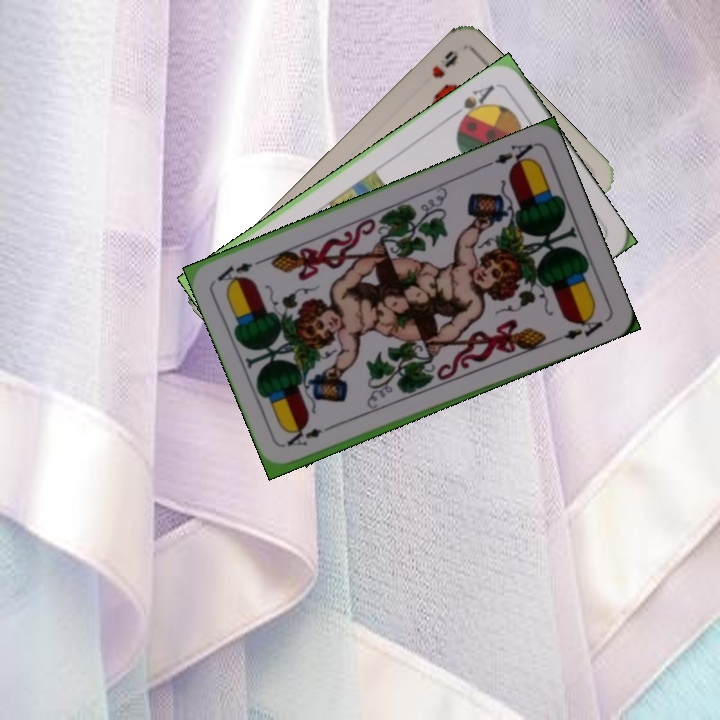EA: (481, 139, 537, 171), (282, 419, 339, 449)
H9: (427, 46, 461, 81)
SA: (448, 80, 497, 127)
